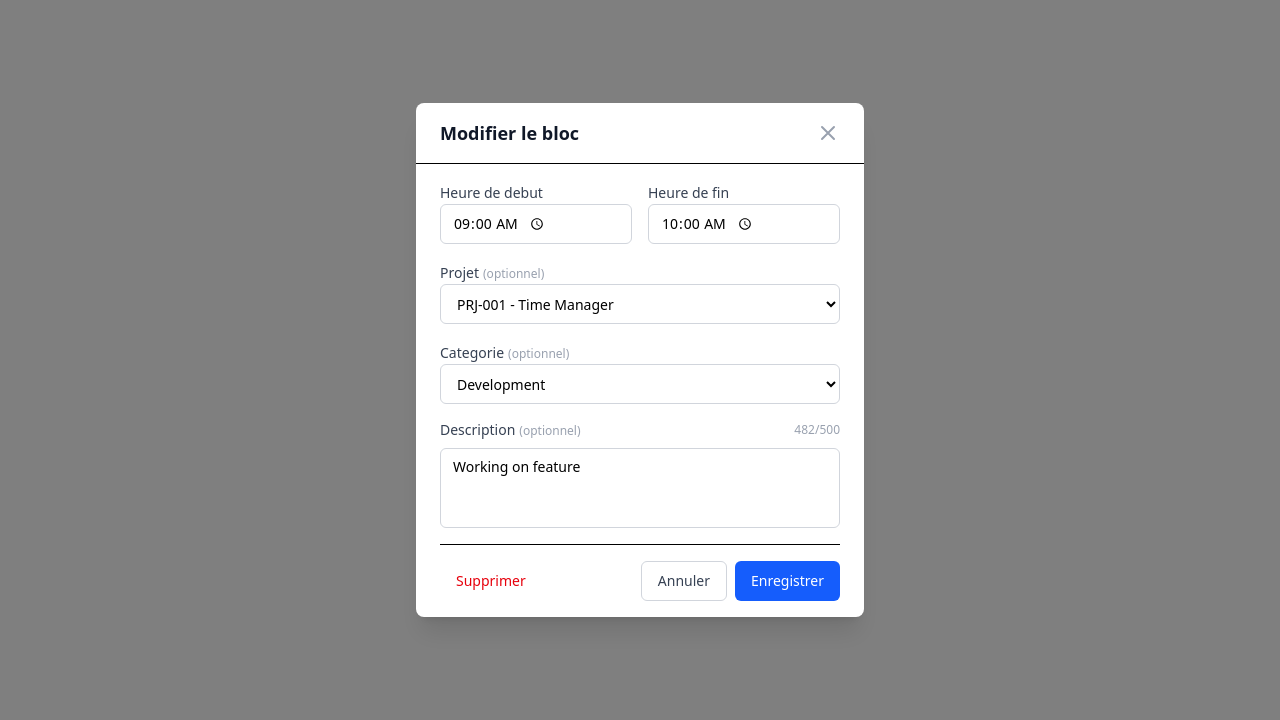
BlockModal › Delete Action › can cancel delete confirmation
Click the button "Supprimer".
click(491, 581)  # box x1=440 y1=561 x2=542 y2=601
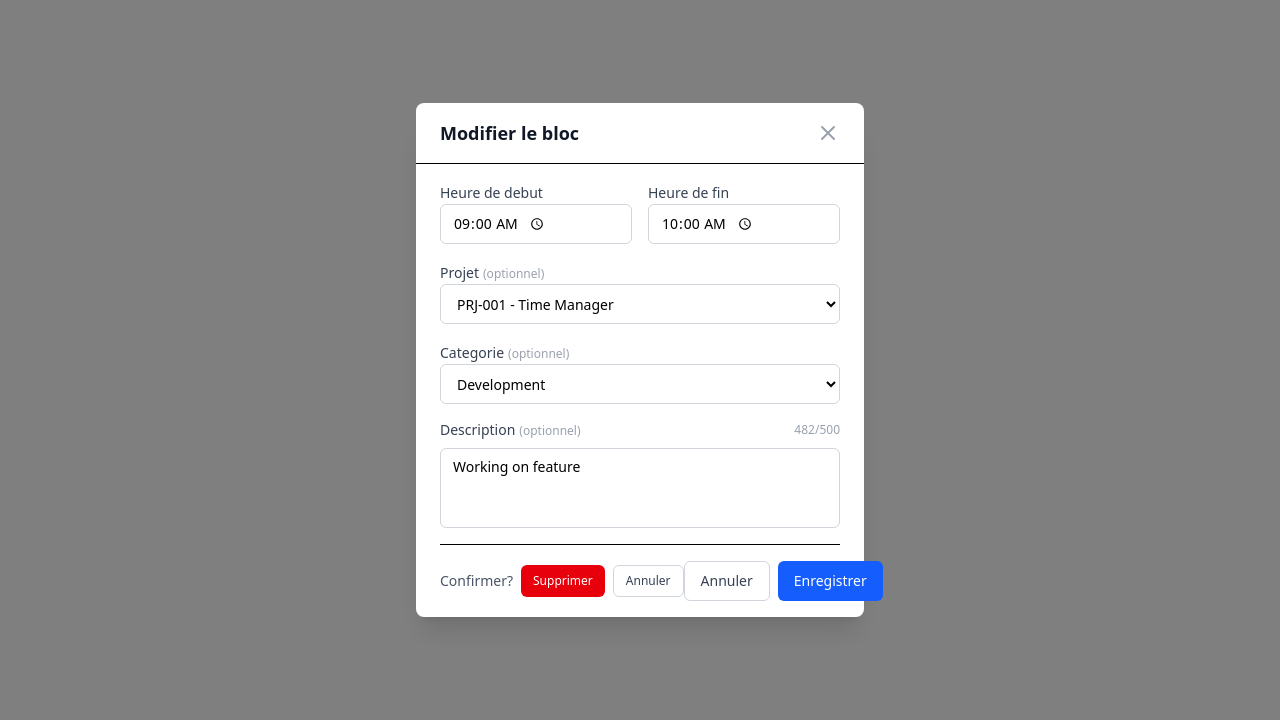
Click the first Annuler button (the one in the delete confirmation)
Click the button "Annuler" in the row of "Confirmer?".
click(648, 581)  # box x1=613 y1=565 x2=684 y2=597
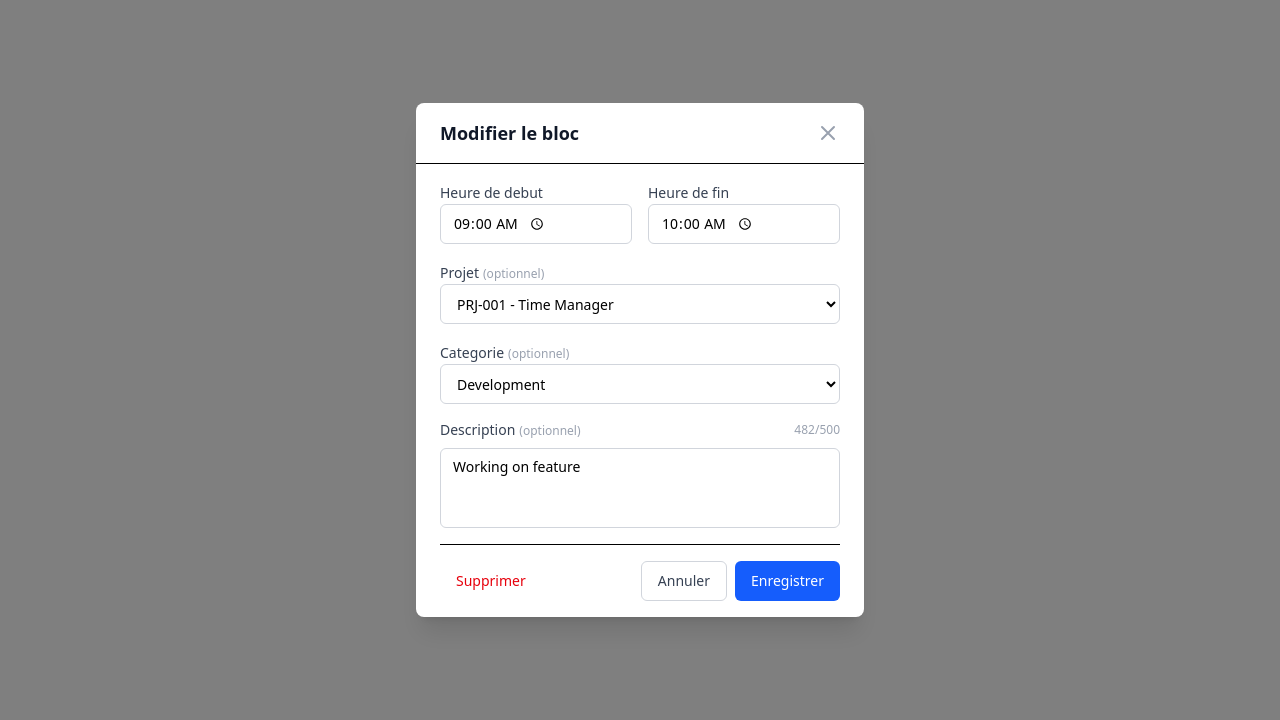
expect the text "Confirmer?" is gone: met
